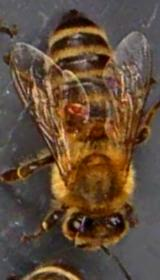varroa_mite: (59, 98, 88, 122)
